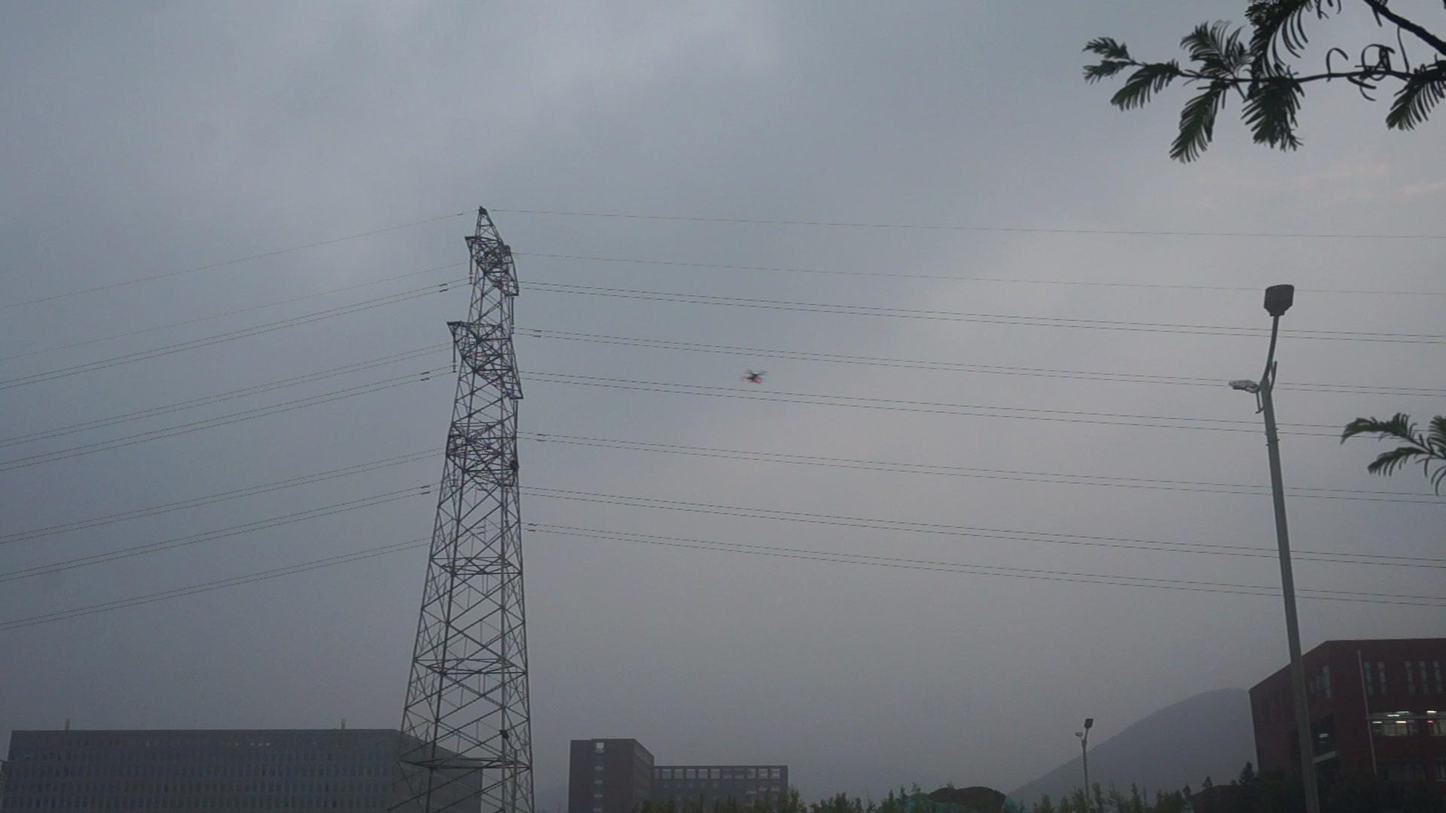UAV: (740, 369, 769, 384)
